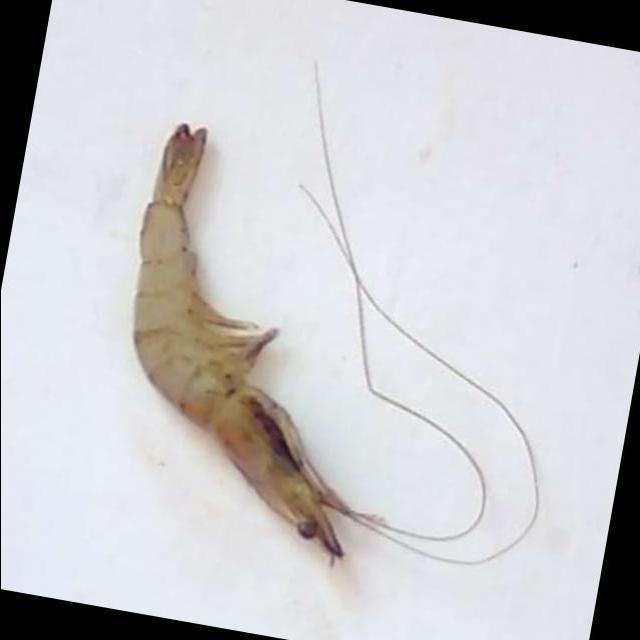shrimp: (133, 123, 343, 559)
